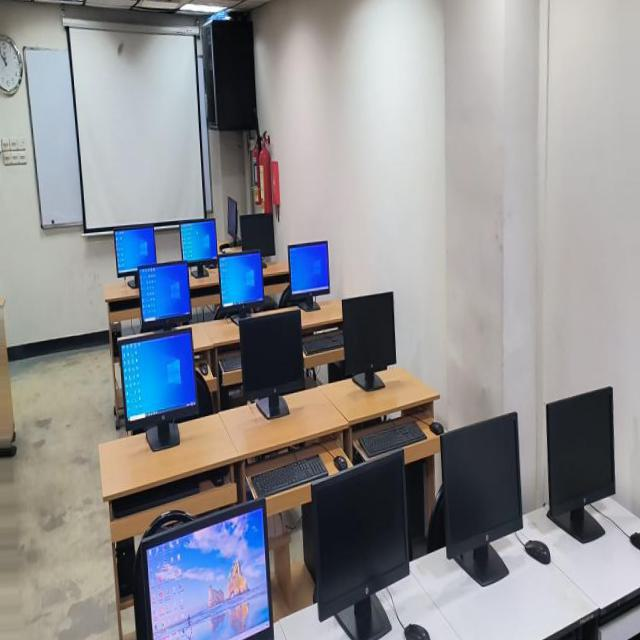Chair: (182, 358, 208, 401)
Fire Extinguisher: (265, 151, 279, 220), (260, 151, 269, 212)
Keyboard: (243, 443, 320, 479), (351, 418, 421, 449), (301, 330, 342, 351), (216, 344, 238, 364)
Light: (47, 0, 99, 17), (195, 23, 240, 34), (255, 11, 266, 16)
Monitor: (128, 481, 256, 639), (299, 444, 399, 621), (430, 416, 514, 572), (539, 398, 611, 538), (116, 319, 192, 429), (238, 310, 303, 407), (342, 299, 395, 387), (139, 258, 190, 319), (221, 254, 264, 302), (291, 248, 331, 296), (184, 222, 220, 274), (117, 226, 158, 268), (244, 219, 278, 260), (231, 202, 242, 246)
Mouse: (388, 603, 415, 632), (514, 533, 540, 556), (621, 532, 640, 553), (425, 419, 440, 432), (327, 444, 340, 459), (195, 353, 204, 363)
Projector: (150, 0, 196, 28)
